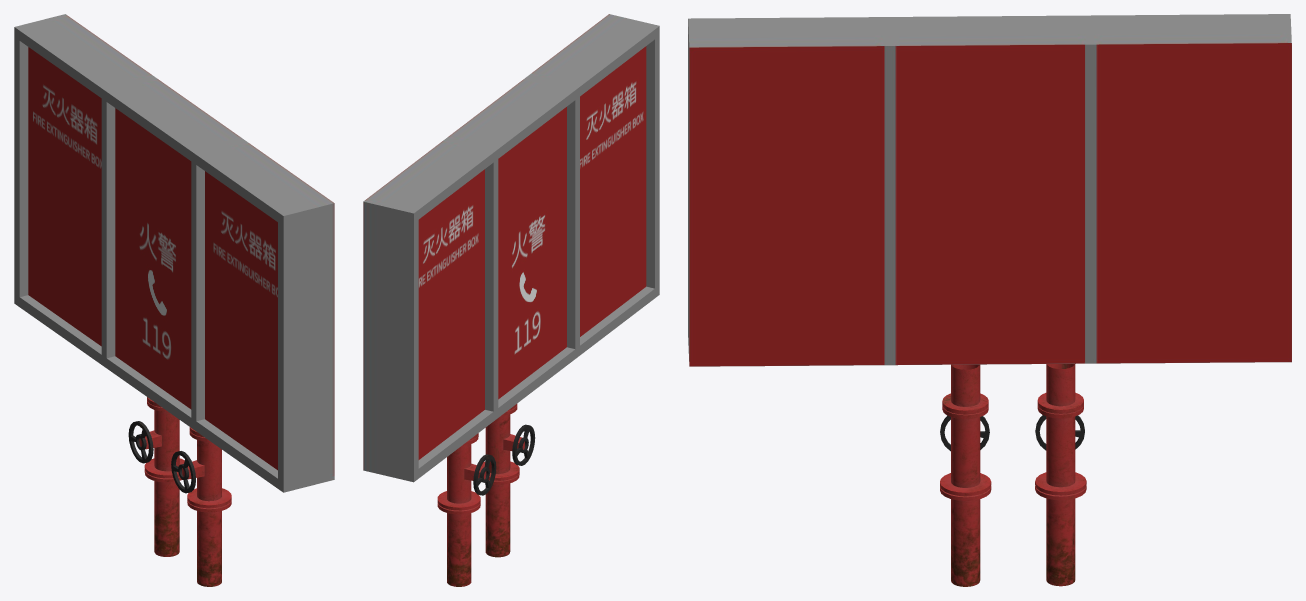
The model's file is hydrant.obj.
The picture shows the model from 3 angles, left to right: view 1: azimuth 30°, elevation 25°; view 2: azimuth 150°, elevation 25°; view 3: azimuth 270°, elevation 25°; orthographic projection. The views are drawn at different scales.
Visible parts, largest first — view 1: Hydrant; view 2: Hydrant; view 3: Hydrant.
Boxes of the visible parts, bbox=[...] form: Hydrant: bbox=[14, 14, 334, 586]; Hydrant: bbox=[363, 14, 659, 586]; Hydrant: bbox=[688, 14, 1291, 586].
Size of the model in its own units: 0.3364 by 2.03 by 2.07.
